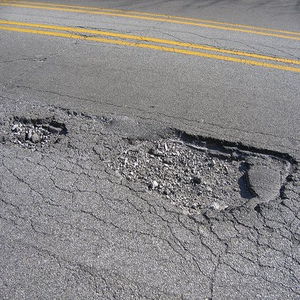pothole: (109, 127, 298, 218), (6, 116, 63, 156)
